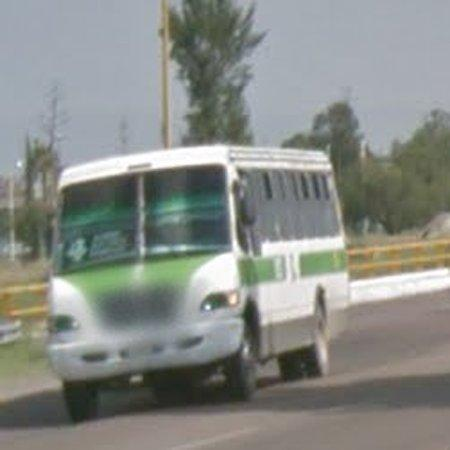buses: (48, 146, 350, 420)
